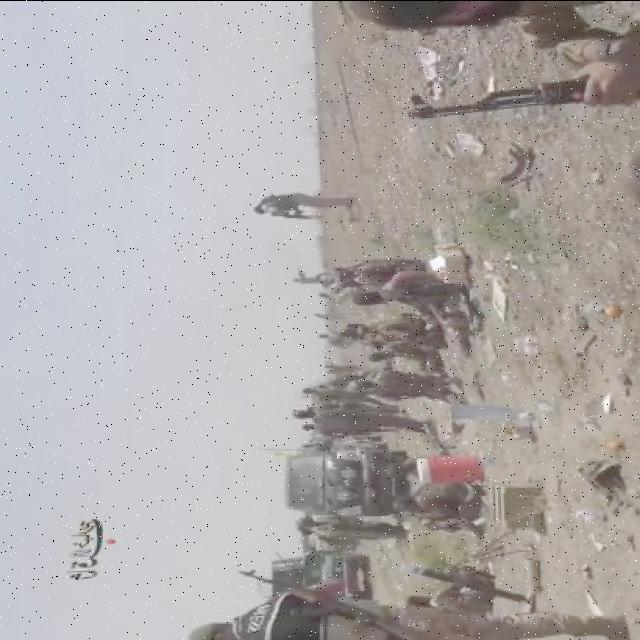Rifle: (406, 69, 640, 119)
